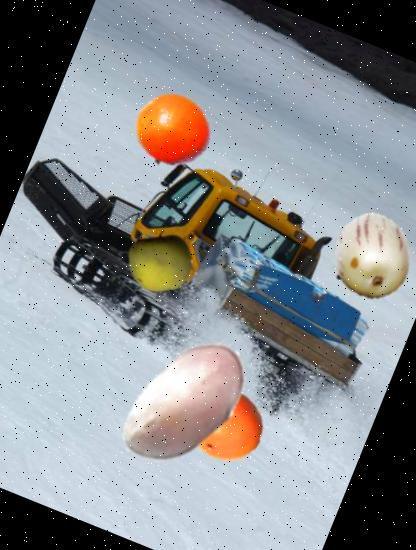Apple: (117, 218, 203, 304)
Grapefruit: (176, 375, 275, 474)
Hazelnut: (87, 307, 282, 501)
Pepino: (317, 201, 416, 310)
Tangelo: (122, 80, 224, 182)
